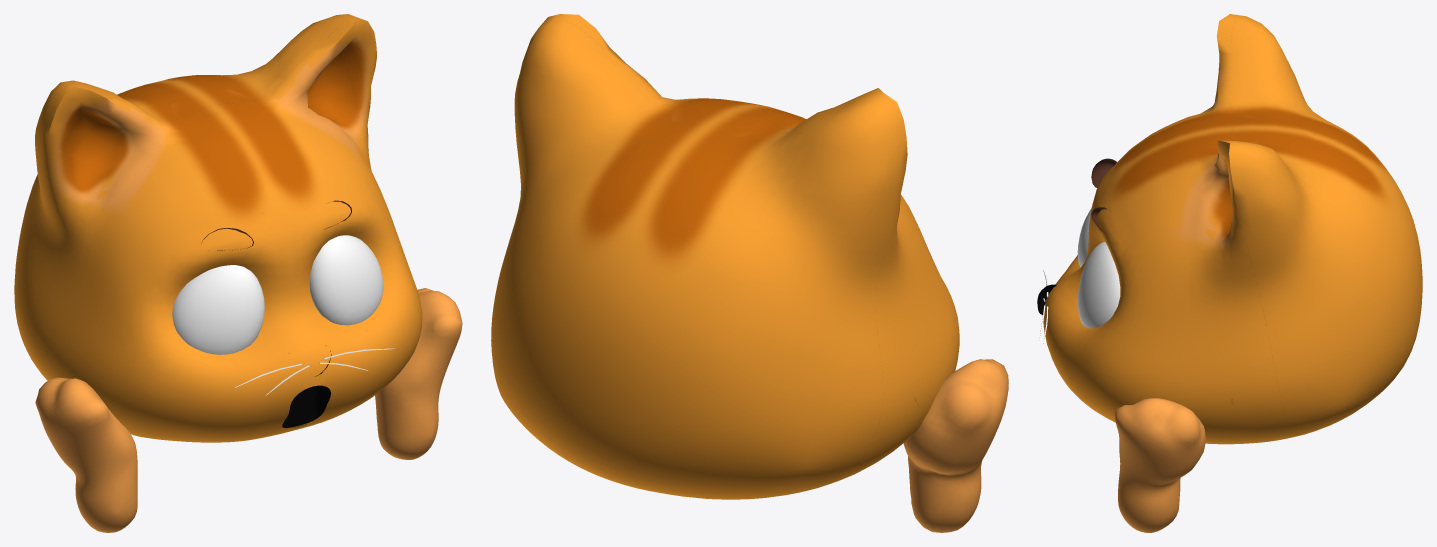
Rendered from shockface.glb.
3 views of the same model, side by side, from view 1: azimuth 30°, elevation 25°; view 2: azimuth 150°, elevation 25°; view 3: azimuth 270°, elevation 25° (orthographic). The views are drawn at different scales.
Visible parts, largest first — view 1: fear-col; view 2: fear-col; view 3: fear-col.
Part boxes in pixels (bbox=[...]): fear-col: bbox=[14, 14, 462, 532]; fear-col: bbox=[491, 14, 1008, 532]; fear-col: bbox=[1037, 14, 1422, 532].
Size of the model in its own units: 2.23 by 2.14 by 1.95.
Materials: 5 (1 with a texture image).
